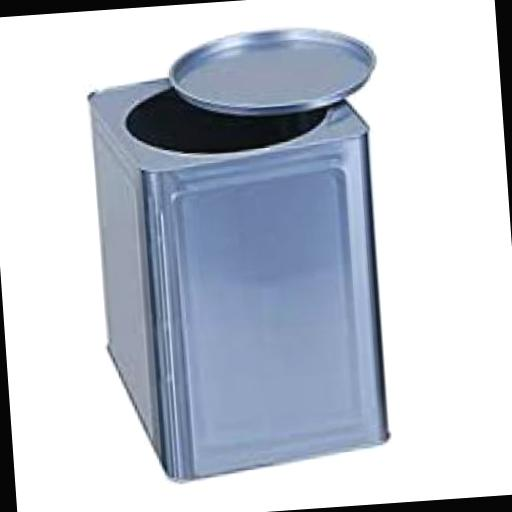metal: (86, 58, 391, 484), (164, 23, 377, 118)
